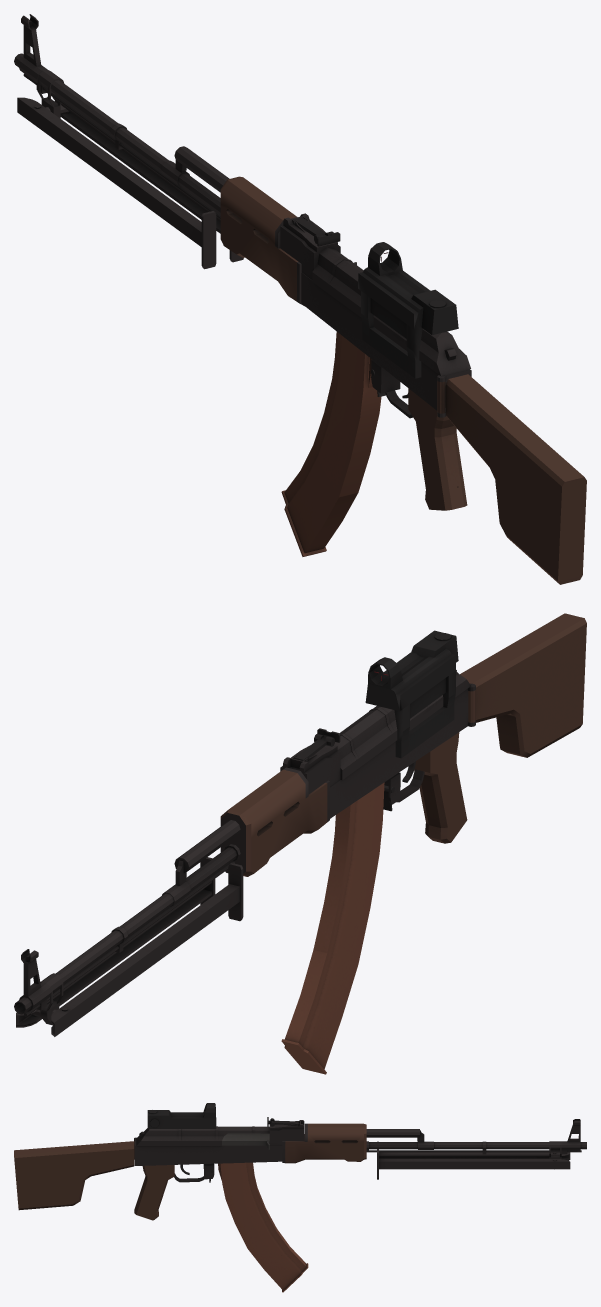
Rendered from RK_LMG.fbx.
3 renders of one model, top to bottom at view 1: azimuth 30°, elevation 25°; view 2: azimuth 150°, elevation 25°; view 3: azimuth 270°, elevation 25°, orthographic. The views are drawn at different scales.
Visible parts, largest first — view 1: Stock_Heavy, Magazine_Extended_Bakelite, Body, Kobra, Barrel_Long, Handguard_Heavy, Bipod_Leg_Left, Grip, Bipod_Leg_Right; view 2: Magazine_Extended_Bakelite, Stock_Heavy, Body, Kobra, Barrel_Long, Handguard_Heavy, Bipod_Leg_Left, Grip, Bipod_Leg_Right, Ironsights, Bipod_mount; view 3: Stock_Heavy, Body, Magazine_Extended_Bakelite, Barrel_Long, Handguard_Heavy, Bipod_Leg_Right, Grip, Kobra, Bipod_Leg_Left, Bolt.
Part boxes in pixels (x1,y1,x2,y2): Stock_Heavy: (437,374,586,584); Magazine_Extended_Bakelite: (281,332,381,556); Body: (280,213,471,418); Kobra: (358,242,458,378); Barrel_Long: (14,14,229,219); Handguard_Heavy: (220,176,304,306); Bipod_Leg_Left: (17,97,216,269); Grip: (408,388,467,510); Bipod_Leg_Right: (52,97,243,262); Magazine_Extended_Bakelite: (281,782,384,1074); Stock_Heavy: (460,613,586,757); Body: (280,670,475,818); Kobra: (365,630,458,758); Barrel_Long: (14,820,240,1016); Handguard_Heavy: (220,767,329,876); Bipod_Leg_Left: (51,863,243,1036); Grip: (414,732,467,843); Bipod_Leg_Right: (16,857,215,1027); Ironsights: (294,728,340,761); Bipod_mount: (40,973,63,1025); Stock_Heavy: (14,1141,134,1210); Body: (134,1120,304,1182); Magazine_Extended_Bakelite: (218,1162,308,1292); Barrel_Long: (366,1119,586,1154); Handguard_Heavy: (282,1123,366,1163); Bipod_Leg_Right: (377,1149,570,1179); Grip: (134,1165,174,1220); Kobra: (147,1103,216,1128); Bipod_Leg_Left: (377,1141,570,1160); Bolt: (222,1133,269,1149).
Bounding box in the file's own units: 4.79 × 32.97 × 92.13.
